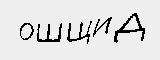Д: (111, 12, 145, 42)
И: (91, 16, 115, 37)
О: (20, 22, 34, 40)
Ш: (36, 24, 66, 43)
Щ: (67, 19, 91, 44)
